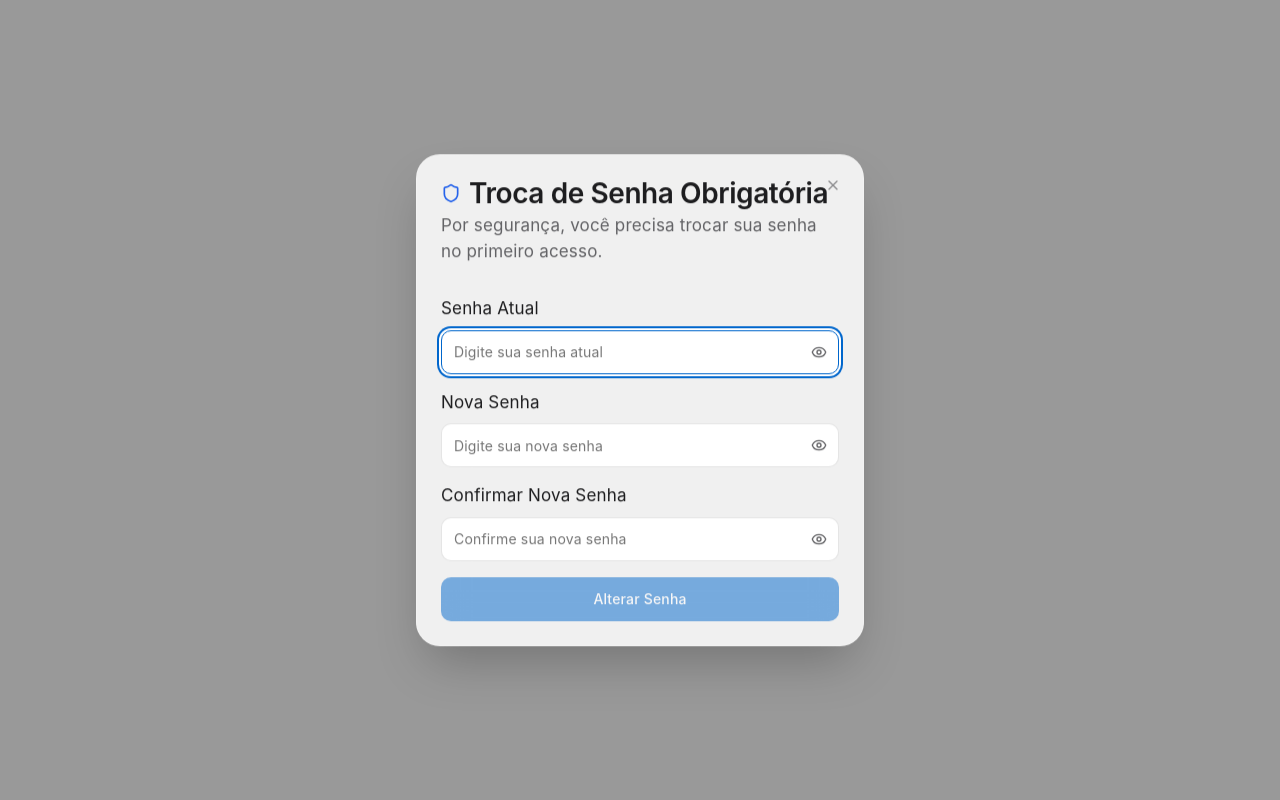
PasswordChangeModal › Password Validation › should show password mismatch error
Type "ValidPass123!" into the password field labelled "Nova Senha" at (640, 445), box [441, 423, 839, 467]
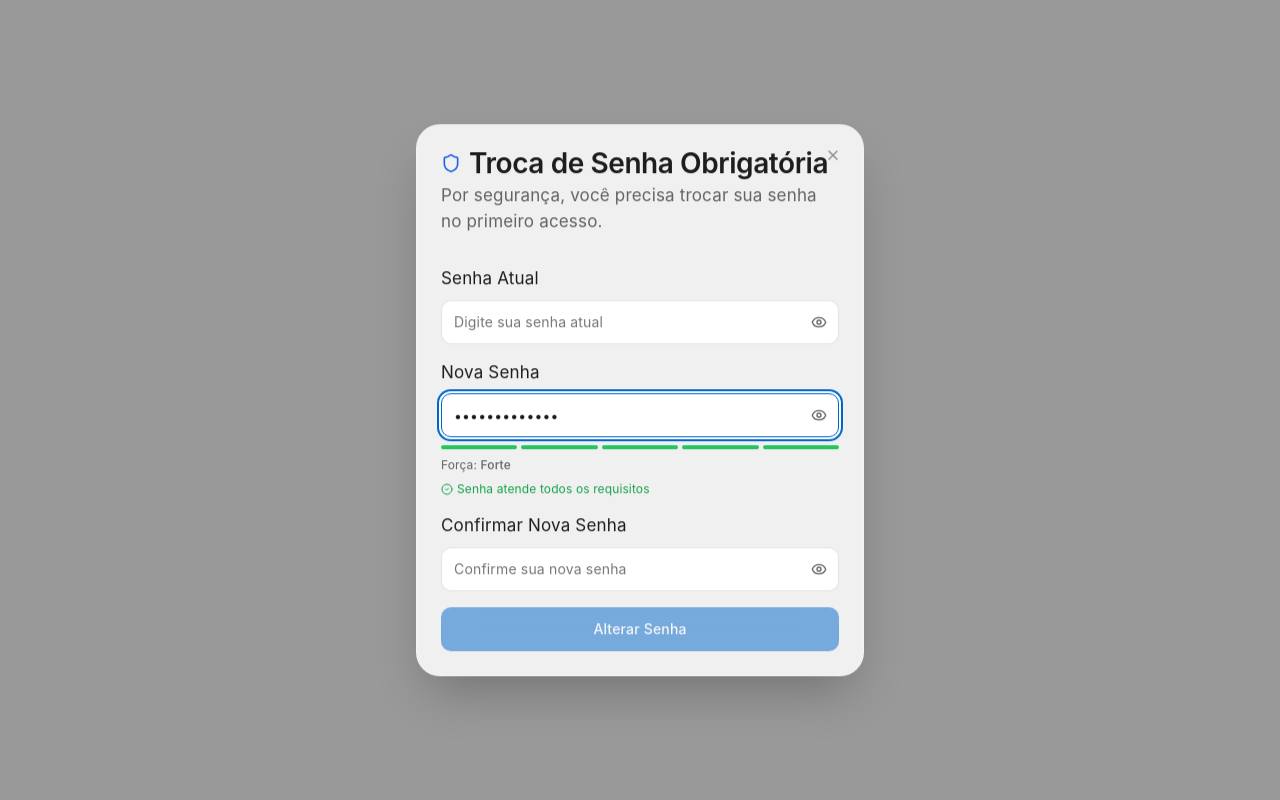
Type "DifferentPass456!" into the password field labelled "Confirmar Nova Senha" at (640, 569), box [441, 547, 839, 591]
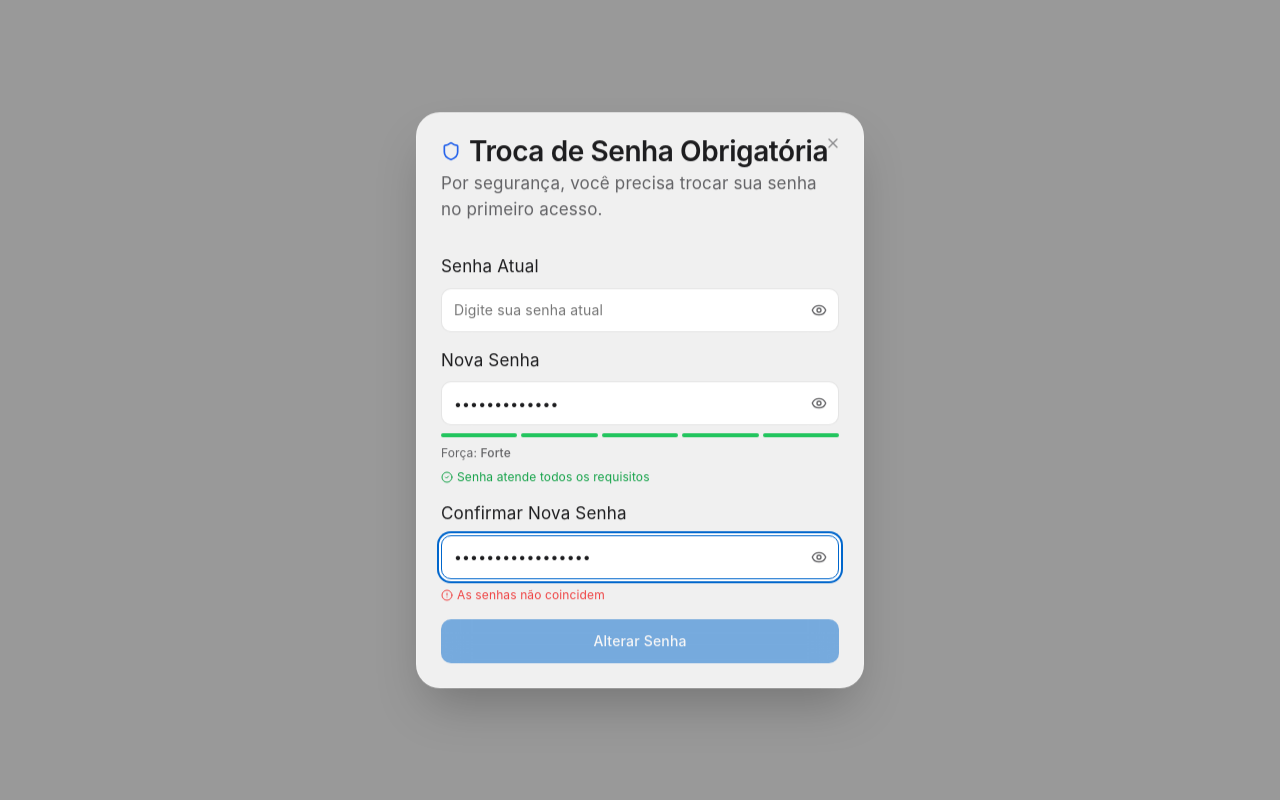
Now the text "As senhas não coincidem" is shown, box [441, 587, 605, 602]
